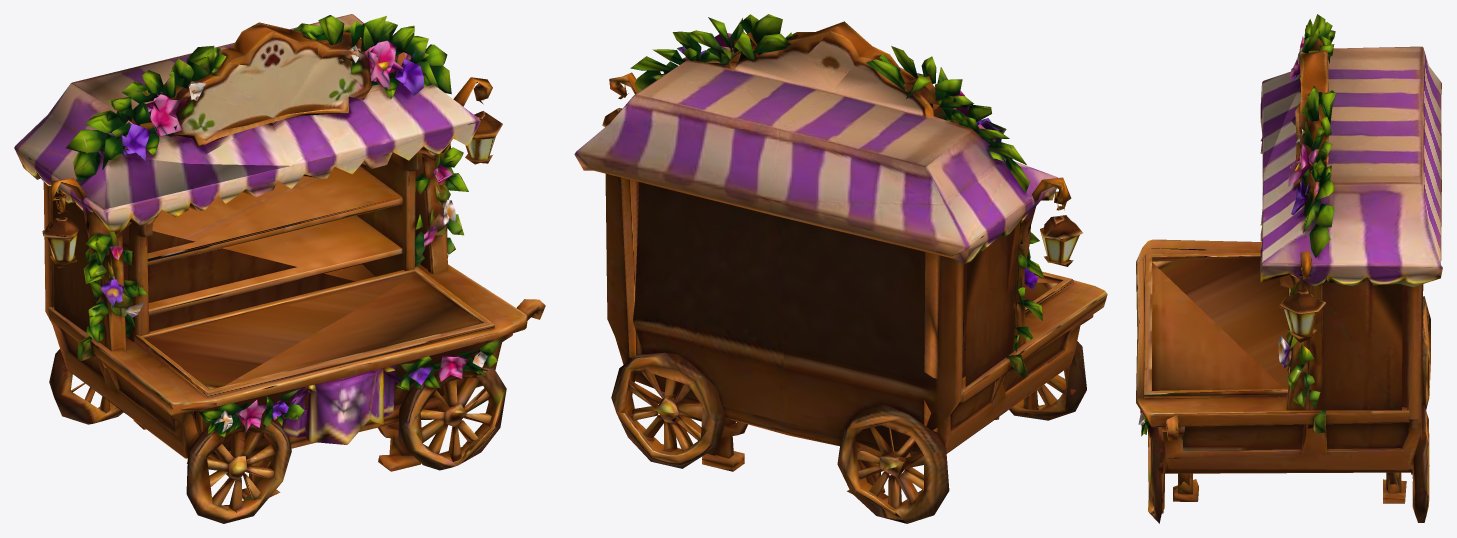
Rendered from flowercart.glb.
3 views of the same model, side by side, from view 1: azimuth 30°, elevation 25°; view 2: azimuth 150°, elevation 25°; view 3: azimuth 270°, elevation 25° (orthographic). The views are drawn at different scales.
Parts seen in each view (by area): view 1: geometry_0; view 2: geometry_0; view 3: geometry_0.
Boxes of the visible parts, <box> form: geometry_0: <box>14,14,545,523</box>; geometry_0: <box>574,14,1107,523</box>; geometry_0: <box>1136,14,1442,523</box>.
Size of the model in its own units: 0.9575 by 0.8154 by 0.5532.
1 material, 1 textured.
